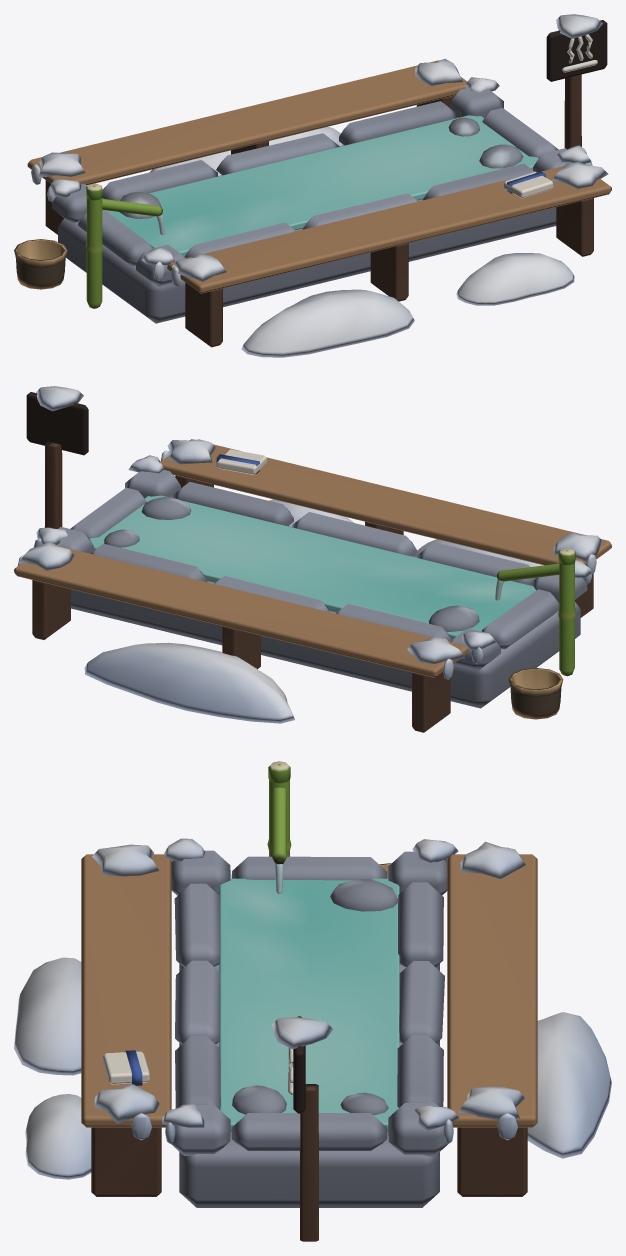
Rendered from ashiyu.glb.
3 renders of one model, top to bottom at view 1: azimuth 30°, elevation 25°; view 2: azimuth 150°, elevation 25°; view 3: azimuth 270°, elevation 25°, orthographic. The views are drawn at different scales.
Visible parts, largest first — view 1: ashiyu; view 2: ashiyu; view 3: ashiyu.
Part boxes in pixels (bbox=[...]): ashiyu: bbox=[14, 14, 611, 357]; ashiyu: bbox=[14, 386, 611, 732]; ashiyu: bbox=[14, 761, 611, 1241].
Bounding box in the file's own units: 3.35 × 0.965 × 2.39.
